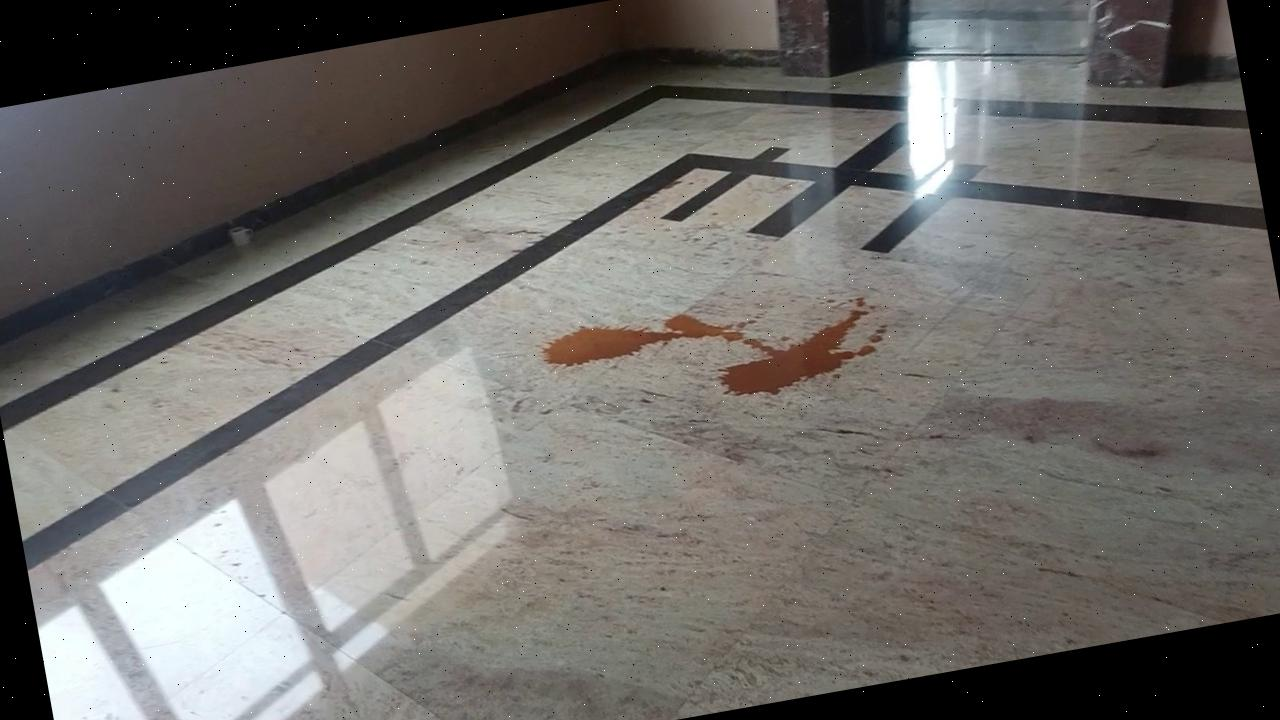dirty_floor: (532, 274, 884, 431)
